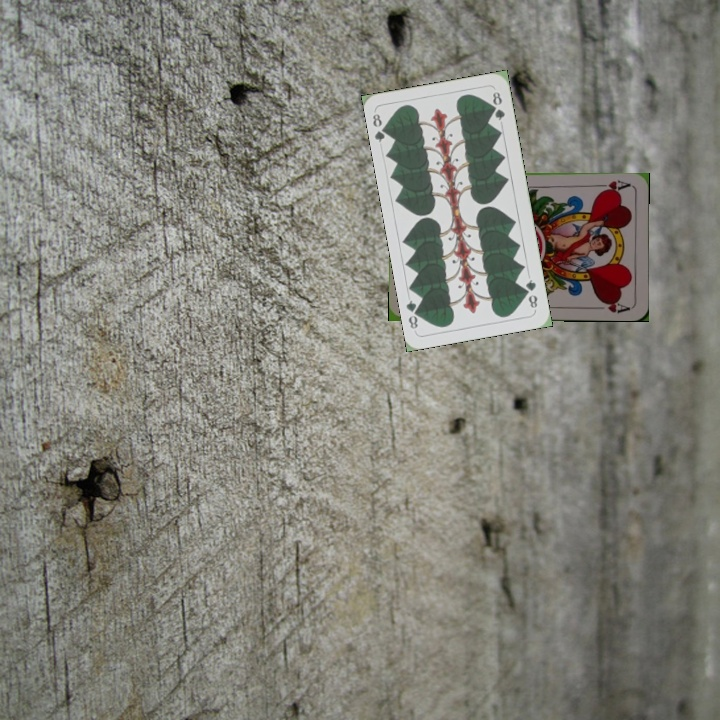G8: (368, 110, 391, 145), (521, 275, 540, 311)
HA: (592, 176, 632, 195)
